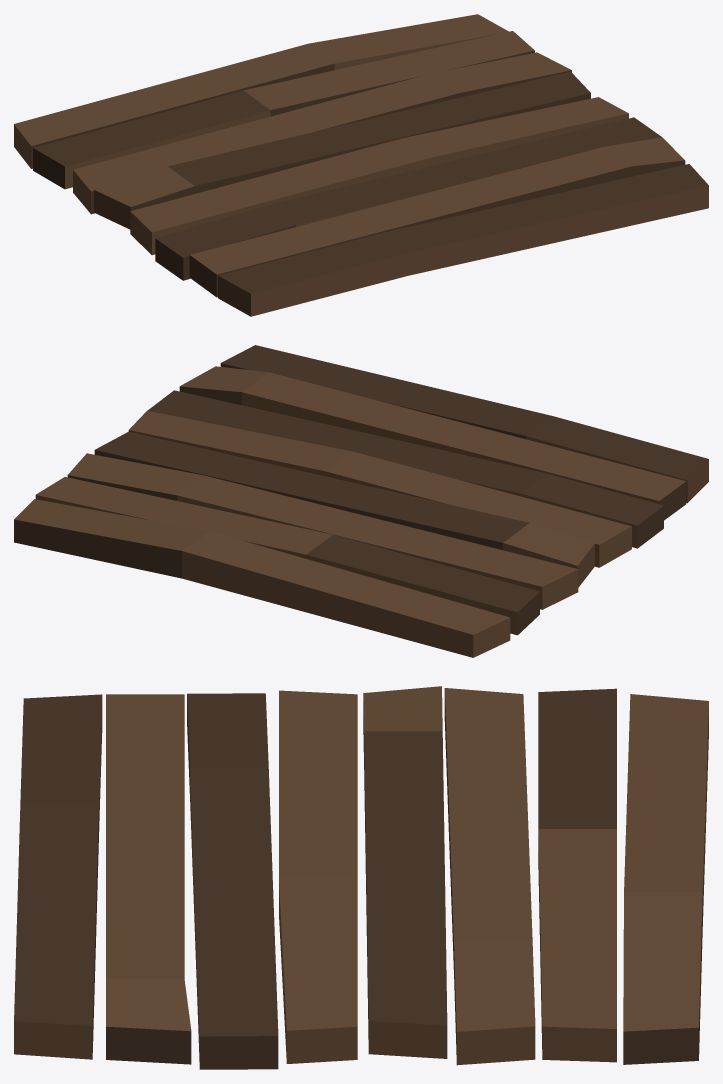
Rendered from Floor_5_Brown.fbx.
3 views of the same model, one above another, from view 1: azimuth 30°, elevation 25°; view 2: azimuth 150°, elevation 25°; view 3: azimuth 270°, elevation 25° (orthographic). The views are drawn at different scales.
Parts seen in each view (by area): view 1: Floor_5_Brown_Part_1, Floor_5_Brown_Part_2; view 2: Floor_5_Brown_Part_1, Floor_5_Brown_Part_2; view 3: Floor_5_Brown_Part_1, Floor_5_Brown_Part_2.
Part boxes in pixels (x1,y1,x2,y2): Floor_5_Brown_Part_1: (14, 14, 708, 316); Floor_5_Brown_Part_2: (31, 50, 708, 297); Floor_5_Brown_Part_1: (14, 366, 708, 657); Floor_5_Brown_Part_2: (14, 345, 708, 634); Floor_5_Brown_Part_1: (14, 686, 708, 1065); Floor_5_Brown_Part_2: (14, 688, 702, 1069).
Size of the model in its own units: 312 by 20.59 by 265.
